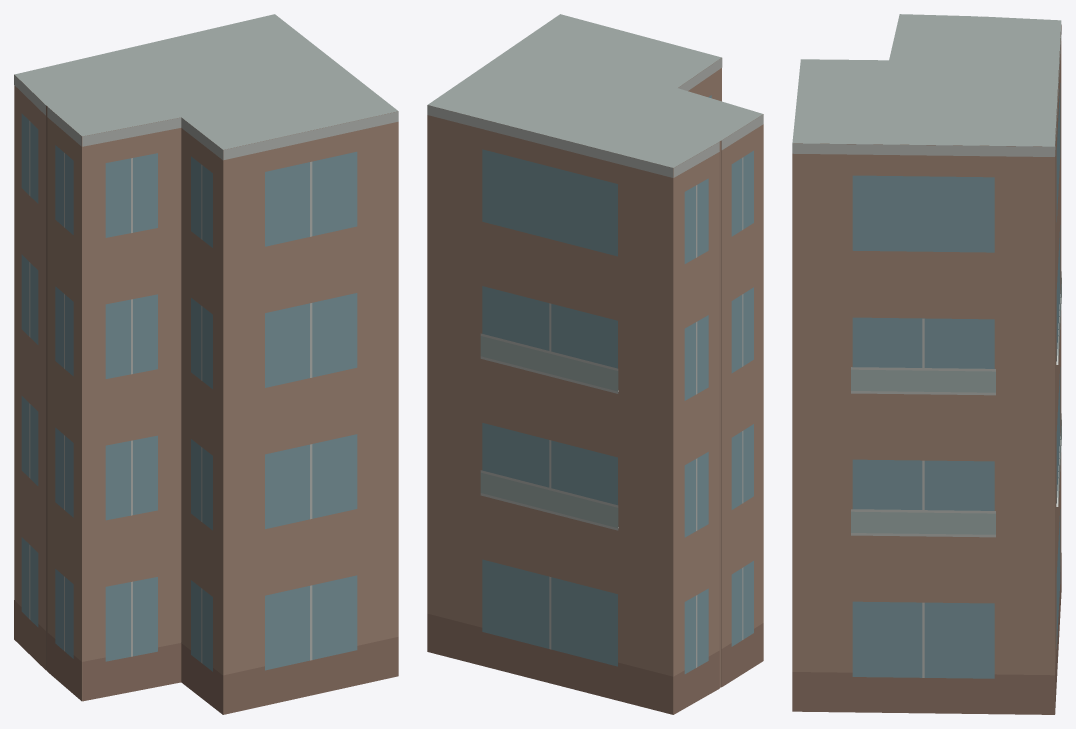
File: survey-upis-32961709.glb
The picture shows the model from 3 angles, left to right: view 1: azimuth 30°, elevation 25°; view 2: azimuth 150°, elevation 25°; view 3: azimuth 270°, elevation 25°; orthographic projection. The views are drawn at different scales.
Parts seen in each view (by area): view 1: survey-upis-32961709.tmp; view 2: survey-upis-32961709.tmp; view 3: survey-upis-32961709.tmp.
Part boxes in pixels (box(x1,y1,x2,y2)): survey-upis-32961709.tmp: box(14, 14, 398, 714); survey-upis-32961709.tmp: box(427, 14, 763, 714); survey-upis-32961709.tmp: box(792, 14, 1061, 714).
Size of the model in its own units: 6.61 by 13.2 by 5.68.
